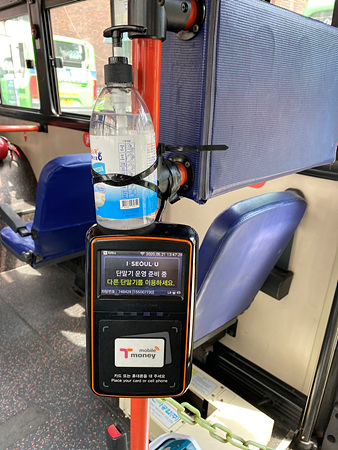terminal: (87, 223, 198, 398)
